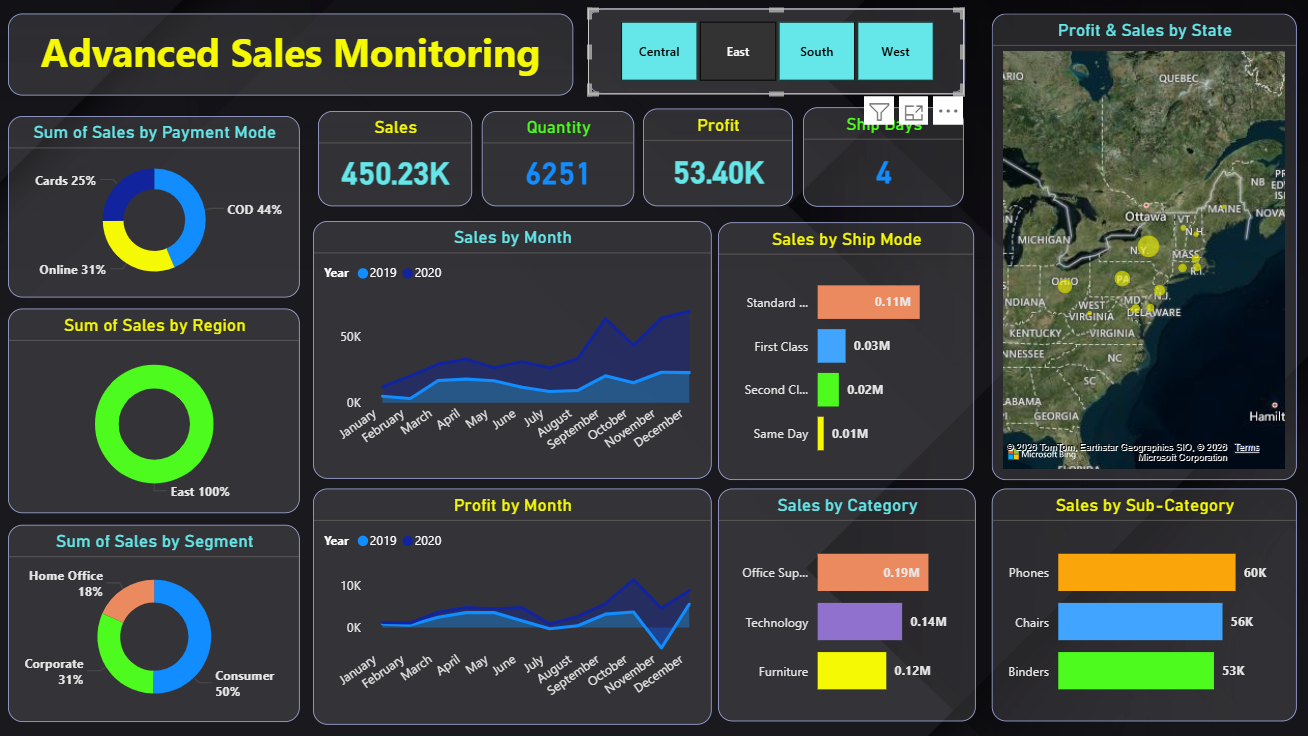

The page's visual inventory and layout, read from the dashboard file:
{"tool":"powerbi","page":{"name":"Page 1","canvas":[1280,720],"ordinal":0},"visuals":[{"type":"barChart","title":" Sales by Category","fields":{"Y":["Sum(SuperStore_Sales_Dataset.Sales)"],"Category":["SuperStore_Sales_Dataset.Category"]},"box":[700,475,248.6,225],"z":0},{"type":"barChart","title":" Sales by Sub-Category","fields":{"Y":["Sum(SuperStore_Sales_Dataset.Sales)"],"Category":["SuperStore_Sales_Dataset.Sub-Category"]},"box":[963.9,475,294.4,225],"z":1000},{"type":"barChart","title":" Sales by Ship Mode","fields":{"Y":["Sum(SuperStore_Sales_Dataset.Sales)"],"Category":["SuperStore_Sales_Dataset.Ship Mode"]},"box":[700,218.1,247.2,248.6],"z":2000},{"type":"stackedAreaChart","title":"Sales by Month","fields":{"Y":["Sum(SuperStore_Sales_Dataset.Sales)"],"Category":["SuperStore_Sales_Dataset.Order Date.Variation.Date Hierarchy.Month","SuperStore_Sales_Dataset.Order Date.Variation.Date Hierarchy.Day"],"Series":["SuperStore_Sales_Dataset.Order Date.Variation.Date Hierarchy.Year"]},"box":[308.3,216.7,384.7,248.6],"z":3000},{"type":"stackedAreaChart","title":"Profit by Month","fields":{"Category":["SuperStore_Sales_Dataset.Order Date.Variation.Date Hierarchy.Month","SuperStore_Sales_Dataset.Order Date.Variation.Date Hierarchy.Day"],"Series":["SuperStore_Sales_Dataset.Order Date.Variation.Date Hierarchy.Year"],"Y":["Sum(SuperStore_Sales_Dataset.Profit)"]},"box":[308.3,475,384.7,227.8],"z":4000},{"type":"map","title":"Profit & Sales by State","fields":{"Size":["Sum(SuperStore_Sales_Dataset.Sales)"],"Category":["SuperStore_Sales_Dataset.State"]},"box":[963.9,16.7,294.4,450],"z":5000},{"type":"donutChart","fields":{"Category":["SuperStore_Sales_Dataset.Segment"],"Y":["Sum(SuperStore_Sales_Dataset.Sales)"]},"box":[13.9,509.7,281.9,190.3],"z":6000},{"type":"donutChart","fields":{"Y":["Sum(SuperStore_Sales_Dataset.Sales)"],"Category":["SuperStore_Sales_Dataset.Payment Mode"]},"box":[13.9,115.3,281.9,175],"z":7000},{"type":"slicer","fields":{"Values":["SuperStore_Sales_Dataset.Region"]},"box":[573.8,12.5,363.8,82.5],"z":8000},{"type":"textbox","box":[13.9,16.7,545.8,79.2],"z":9000},{"type":"card","title":"Sales","fields":{"Values":["Sum(SuperStore_Sales_Dataset.Sales)"]},"box":[313.9,111.1,148.6,91.7],"z":10000},{"type":"card","title":"Quantity","fields":{"Values":["Sum(SuperStore_Sales_Dataset.Quantity)"]},"box":[472.2,111.1,147.2,91.7],"z":11000},{"type":"card","title":"Profit","fields":{"Values":["Sum(SuperStore_Sales_Dataset.Profit)"]},"box":[627.8,108.3,144.4,94.4],"z":12000},{"type":"card","title":"Ship Days","fields":{"Values":["Avg(SuperStore_Sales_Dataset.AvgDelivery)"]},"box":[781.9,106.9,155.6,95.8],"z":13000},{"type":"donutChart","fields":{"Y":["Sum(SuperStore_Sales_Dataset.Sales)"],"Category":["SuperStore_Sales_Dataset.Region"]},"box":[13.9,301.4,281.9,197.2],"z":14000}]}

Visuals, with their boxes in screenshot pixels (x1, y1, x2, y2), scaled from the page's 1280x720 canvas onto the 1308x736 screenshot:
" Sales by Category" barChart: select_region(715, 486, 969, 716)
" Sales by Sub-Category" barChart: select_region(985, 486, 1286, 716)
" Sales by Ship Mode" barChart: select_region(715, 223, 968, 477)
"Sales by Month" stackedAreaChart: select_region(315, 222, 708, 476)
"Profit by Month" stackedAreaChart: select_region(315, 486, 708, 718)
"Profit & Sales by State" map: select_region(985, 17, 1286, 477)
donutChart - SuperStore_Sales_Dataset.Segment x Sum(SuperStore_Sales_Dataset.Sales): select_region(14, 521, 302, 716)
donutChart - Sum(SuperStore_Sales_Dataset.Sales) x SuperStore_Sales_Dataset.Payment Mode: select_region(14, 118, 302, 297)
slicer - SuperStore_Sales_Dataset.Region: select_region(586, 13, 958, 97)
textbox: select_region(14, 17, 572, 98)
"Sales" card: select_region(321, 114, 473, 207)
"Quantity" card: select_region(483, 114, 633, 207)
"Profit" card: select_region(642, 111, 789, 207)
"Ship Days" card: select_region(799, 109, 958, 207)
donutChart - Sum(SuperStore_Sales_Dataset.Sales) x SuperStore_Sales_Dataset.Region: select_region(14, 308, 302, 510)
